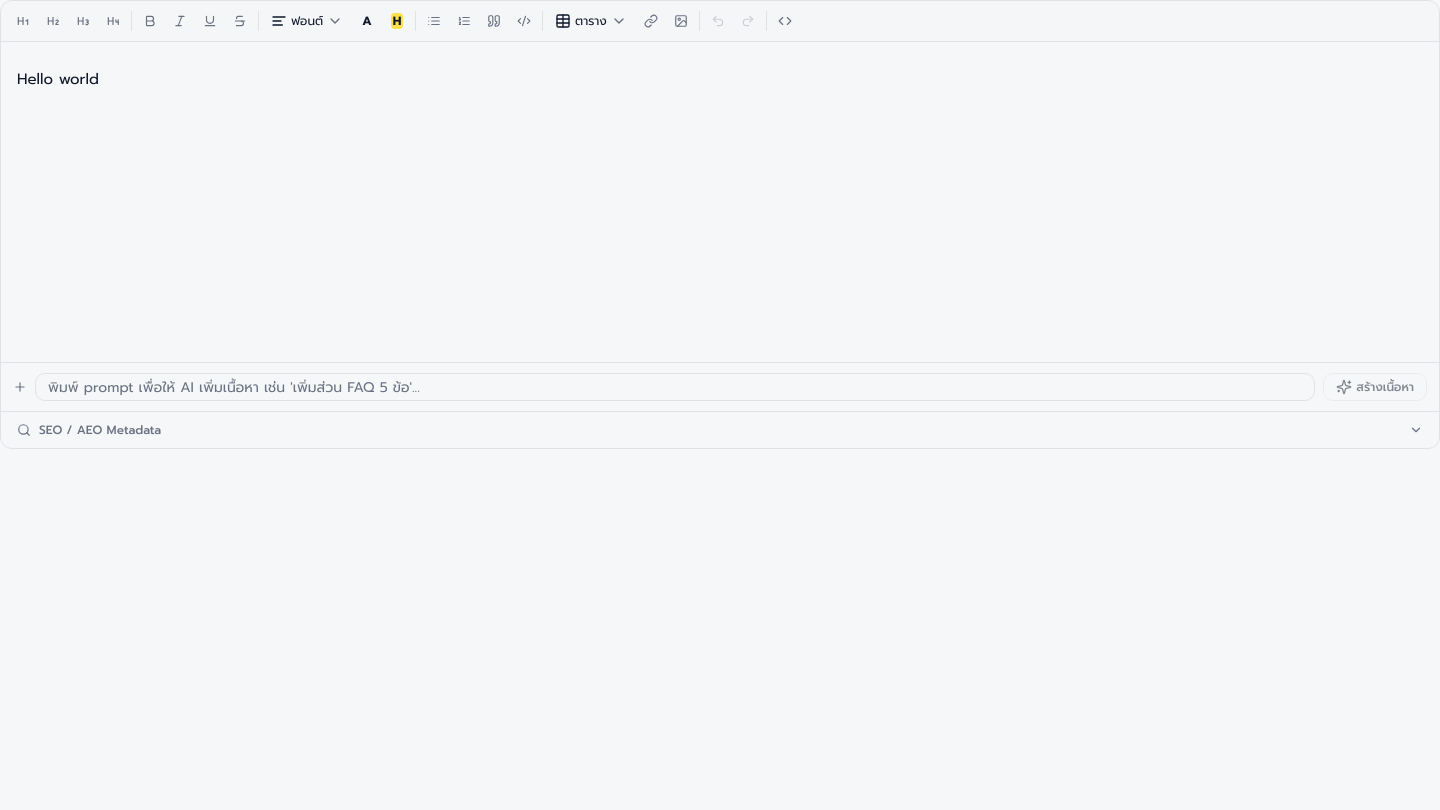
Test case: ArticleEditor › renders pending SEO rules without crashing the page
Click the button "SEO / AEO Metadata" at (100,430), box [1,412,1439,448]
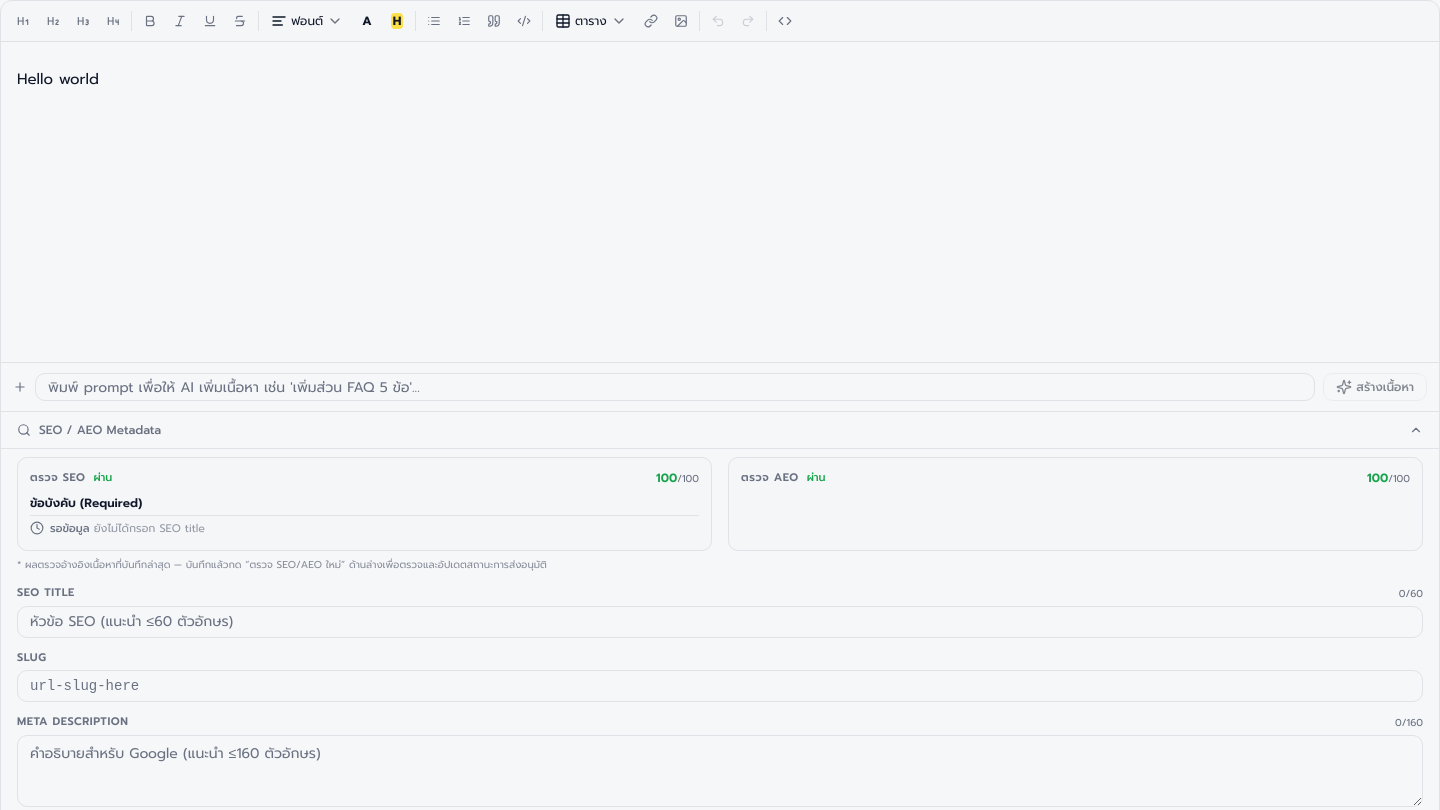
Check: the text "ยังไม่ได้กรอก SEO title" is shown, box [94,520,205,537]
